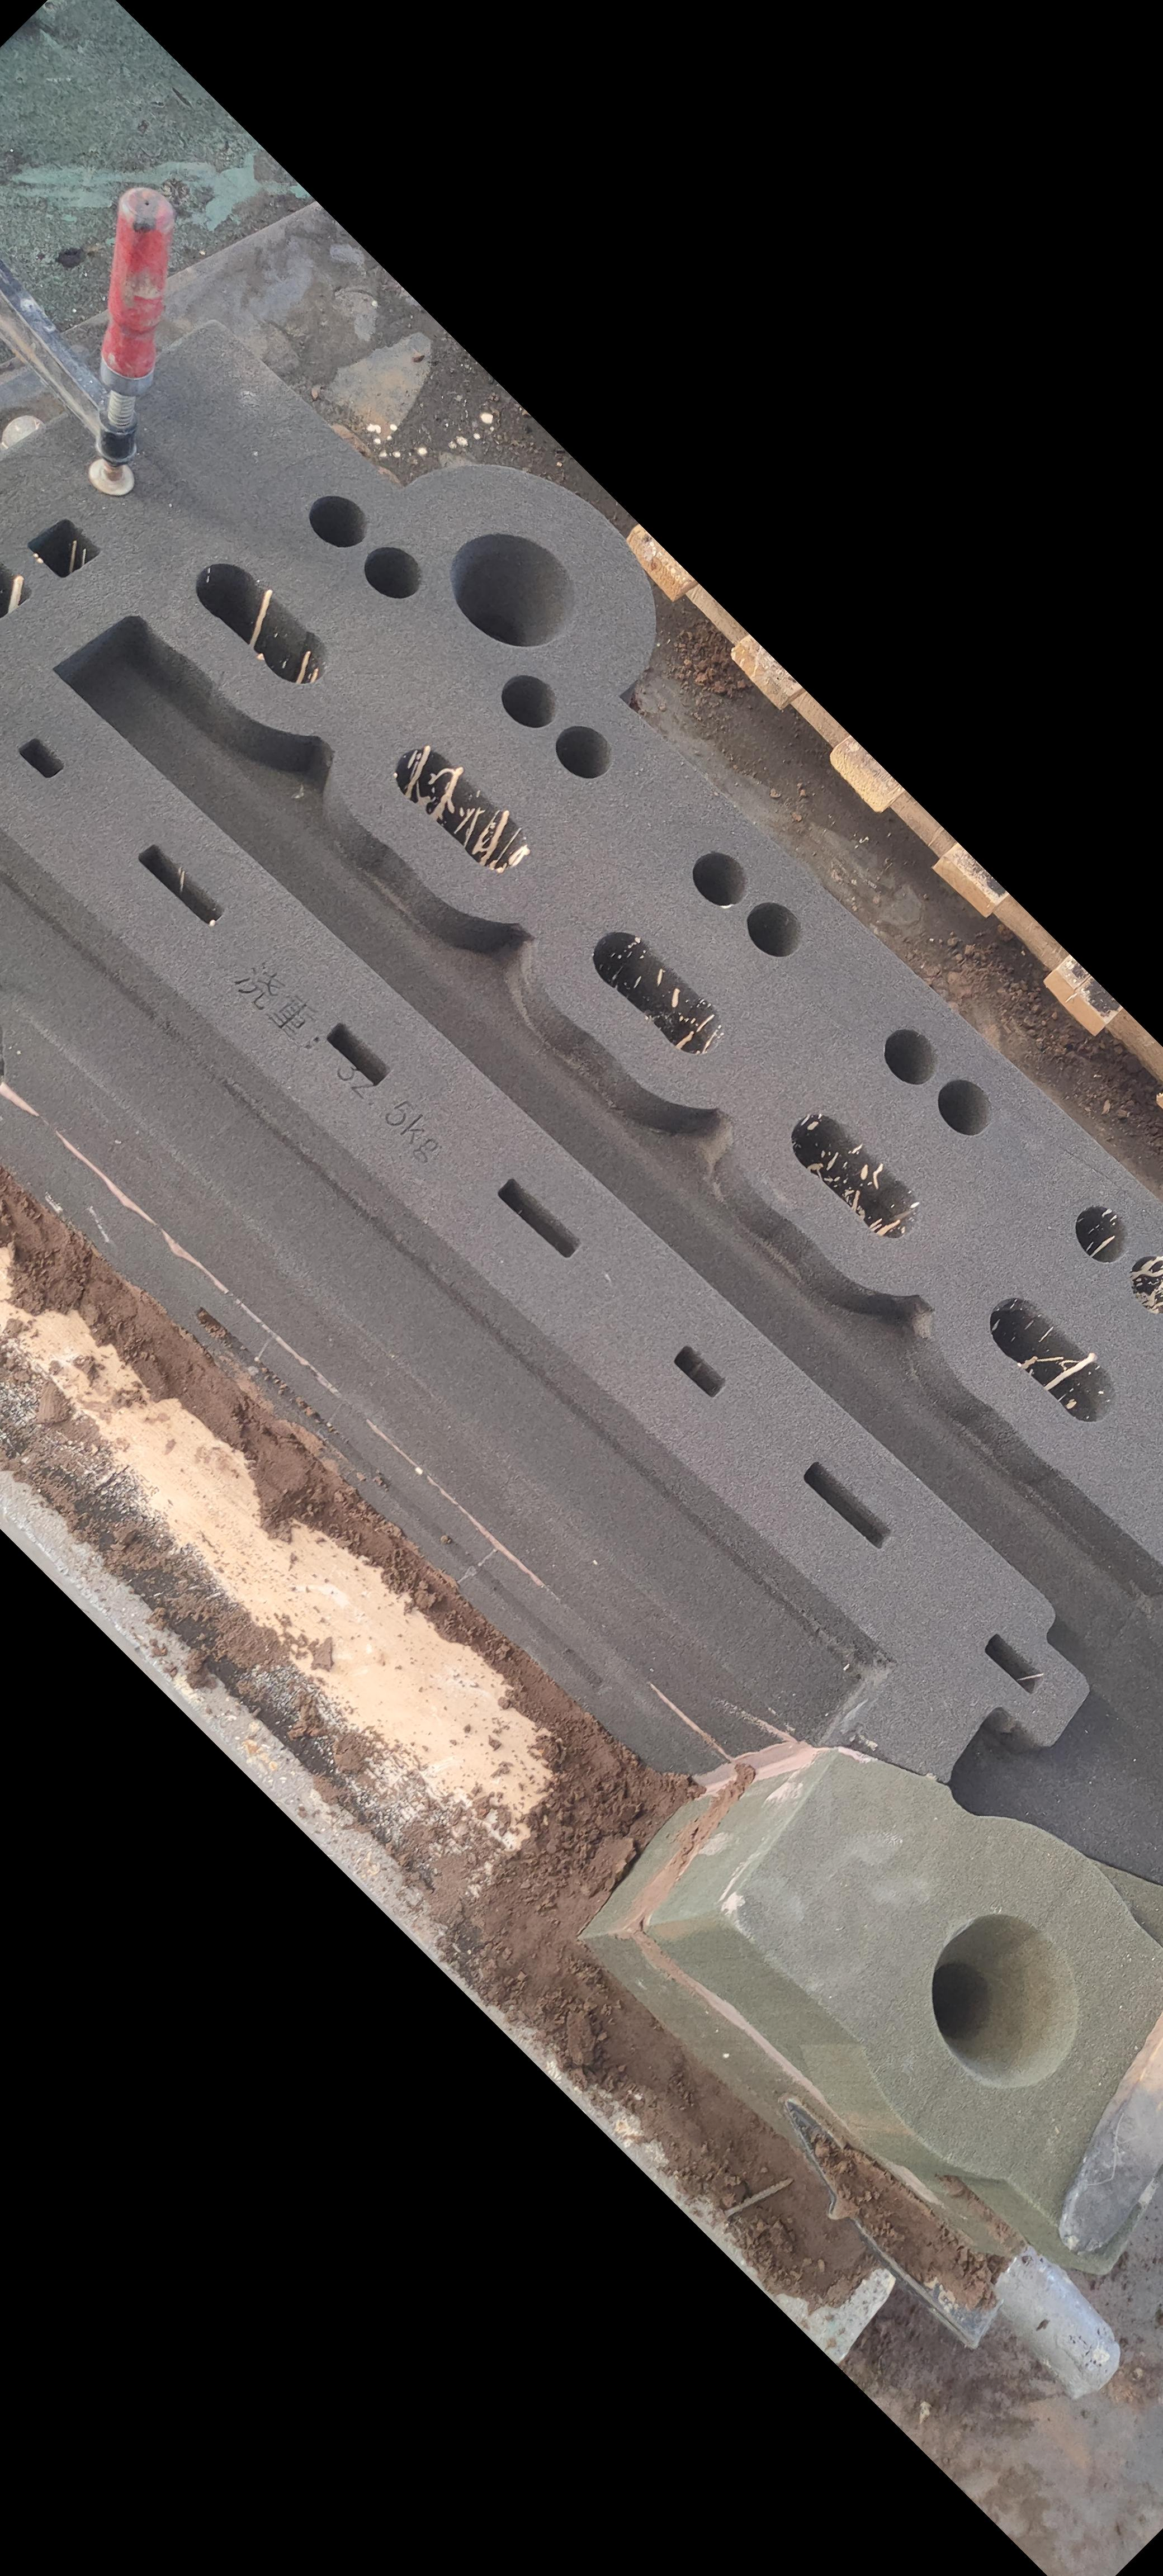pouring hole: (933, 1912, 1079, 2086), (447, 531, 578, 649)
